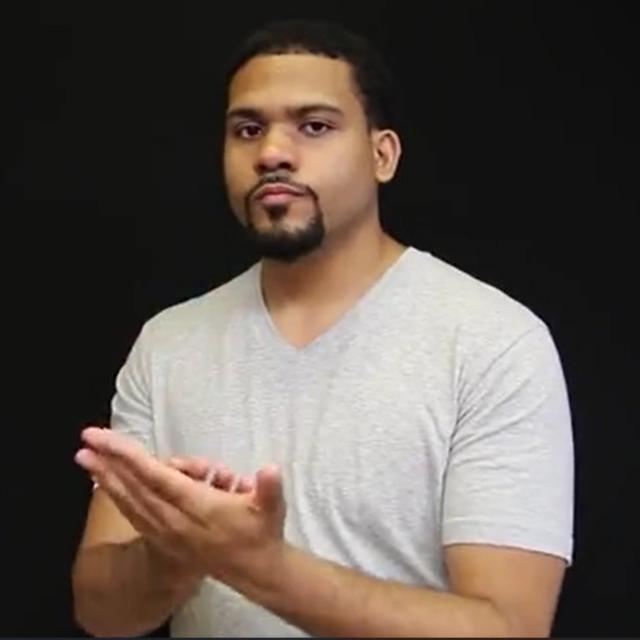good: (75, 428, 287, 574)
